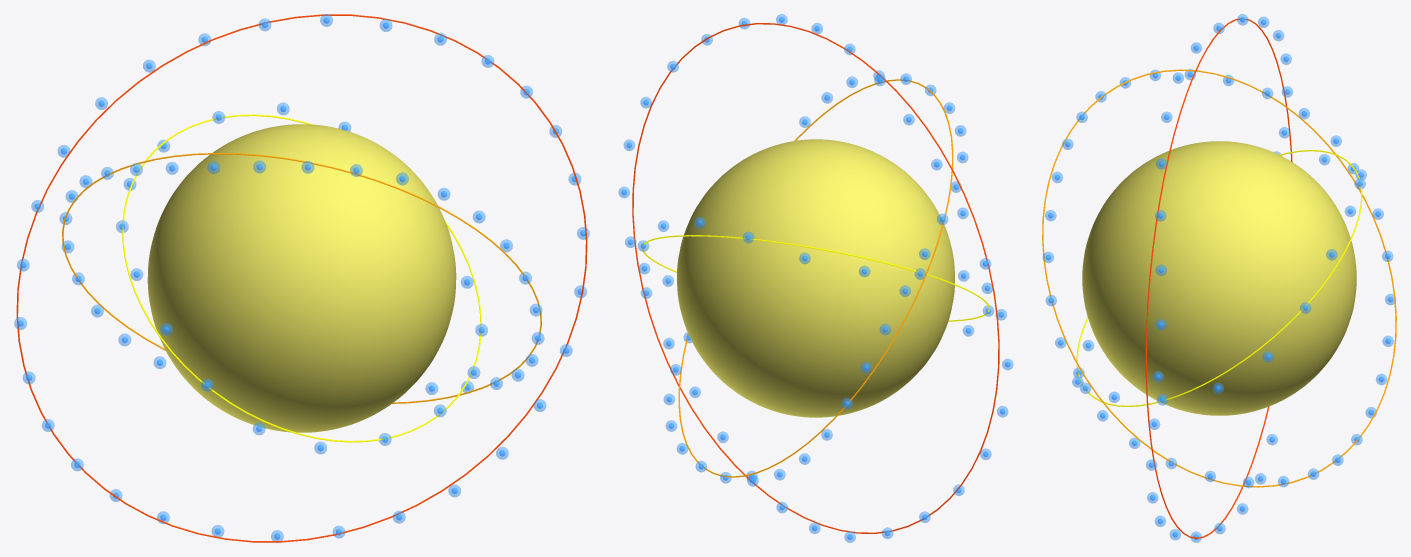
3 renders of one model, left to right at view 1: azimuth 30°, elevation 25°; view 2: azimuth 150°, elevation 25°; view 3: azimuth 270°, elevation 25°, orthographic. The views are drawn at different scales.
Visible parts, largest first — view 1: Th, object 126, object 61, object 24; view 2: Th, object 126, object 61, object 24; view 3: Th, object 61, object 126, object 24.
Boxes of the visible parts, left/top/right/bottom form: Th: left=147, top=124, right=456, bottom=432; object 126: left=16, top=14, right=587, bottom=542; object 61: left=62, top=153, right=541, bottom=403; object 24: left=122, top=114, right=481, bottom=442; Th: left=677, top=139, right=954, bottom=417; object 126: left=632, top=23, right=999, bottom=533; object 61: left=678, top=79, right=953, bottom=477; object 24: left=642, top=235, right=990, bottom=321; Th: left=1082, top=141, right=1356, bottom=415; object 61: left=1042, top=69, right=1396, bottom=487; object 126: left=1145, top=18, right=1292, bottom=538; object 24: left=1076, top=150, right=1362, bottom=406.
Bounding box in the file's own units: 7.16 × 7.33 × 4.9.
